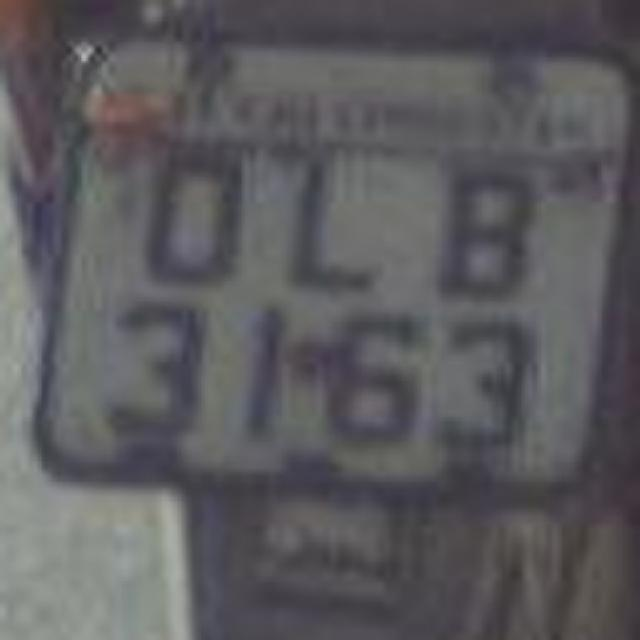1: (200, 284, 328, 451)
3: (72, 280, 232, 468), (408, 288, 568, 460)
6: (296, 289, 452, 456)
B: (415, 135, 540, 300)
D: (124, 124, 251, 308)
J: (260, 135, 388, 300)
